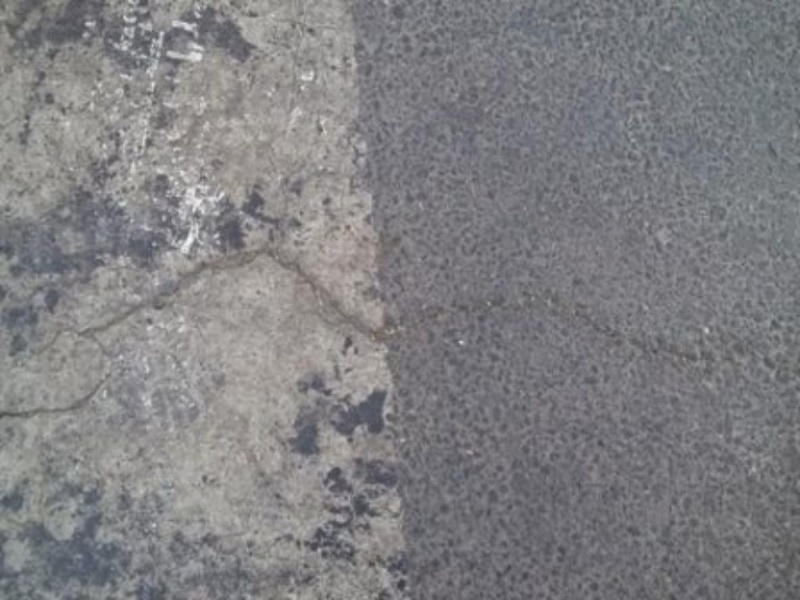crack: (15, 238, 775, 452)
